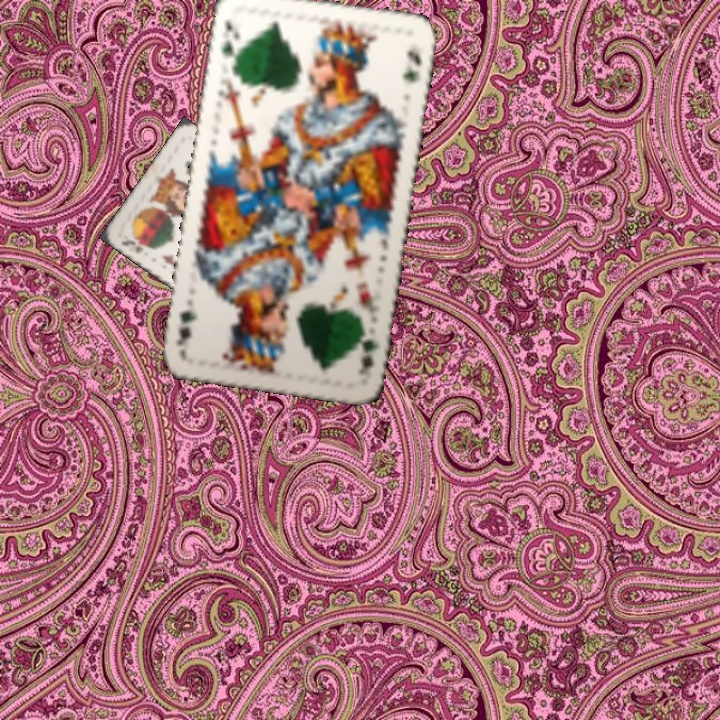GK: (353, 320, 381, 379), (216, 15, 242, 68)
SK: (117, 233, 153, 256)
